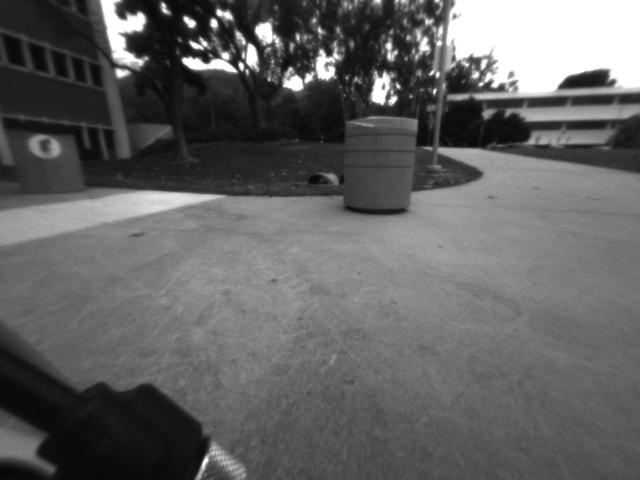trashcan: (337, 107, 421, 220), (2, 115, 91, 198)
